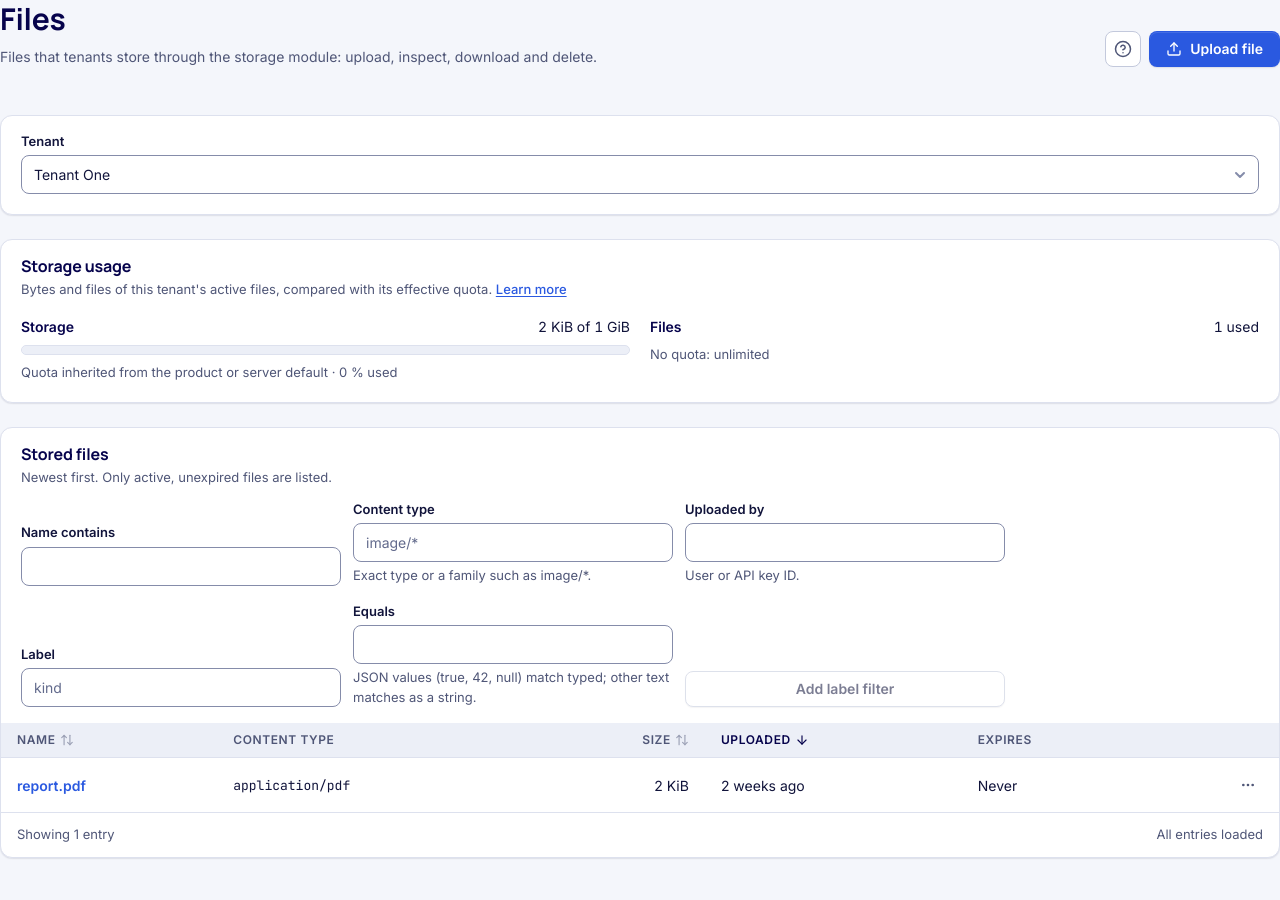
Test case: FilesPage › deletes a file after confirmation with If-Match
Click the button named "Actions for report.pdf" at [1248, 785], box [1233, 770, 1263, 800]
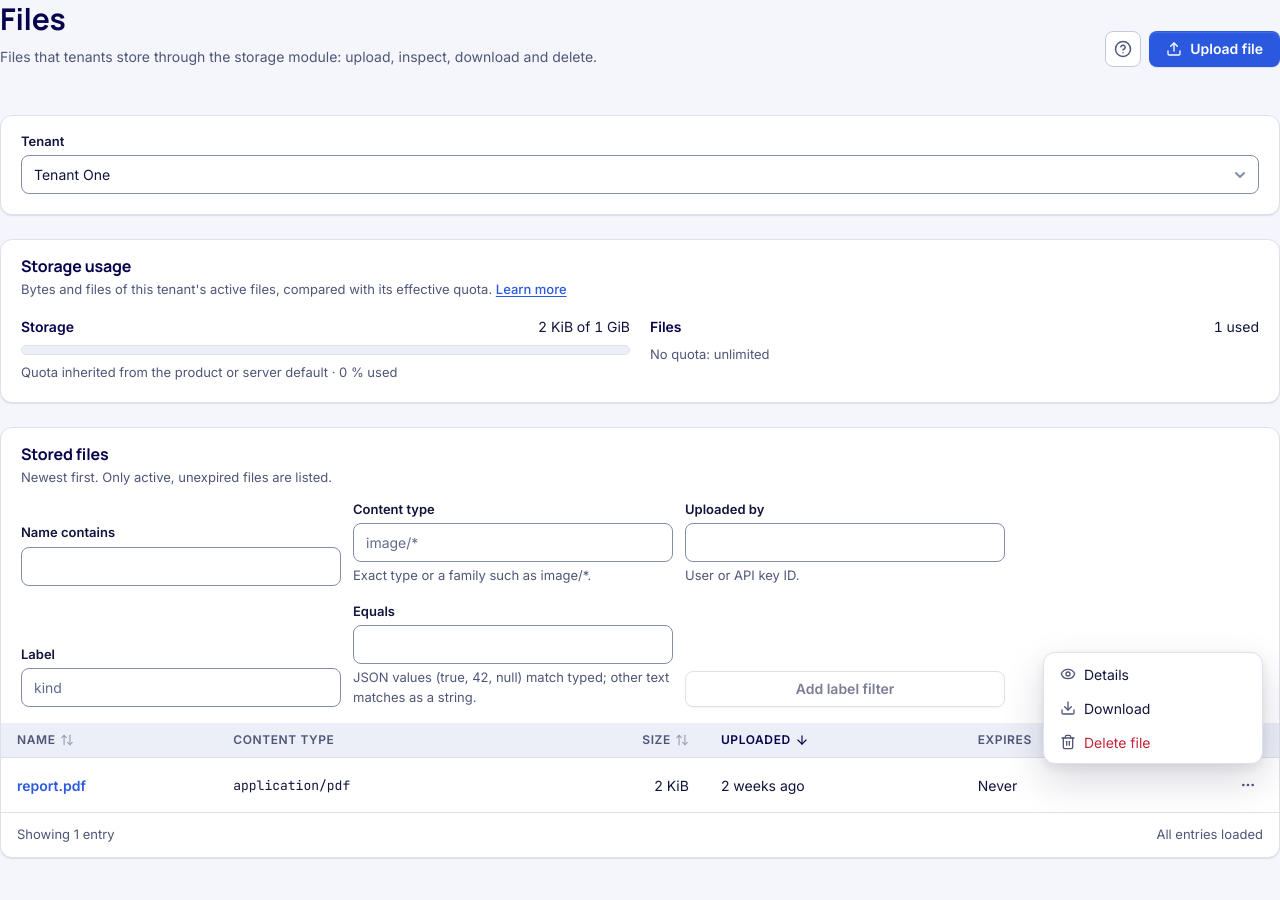
Click the menu item "Delete file" at [1105, 742], box [1060, 734, 1150, 750]
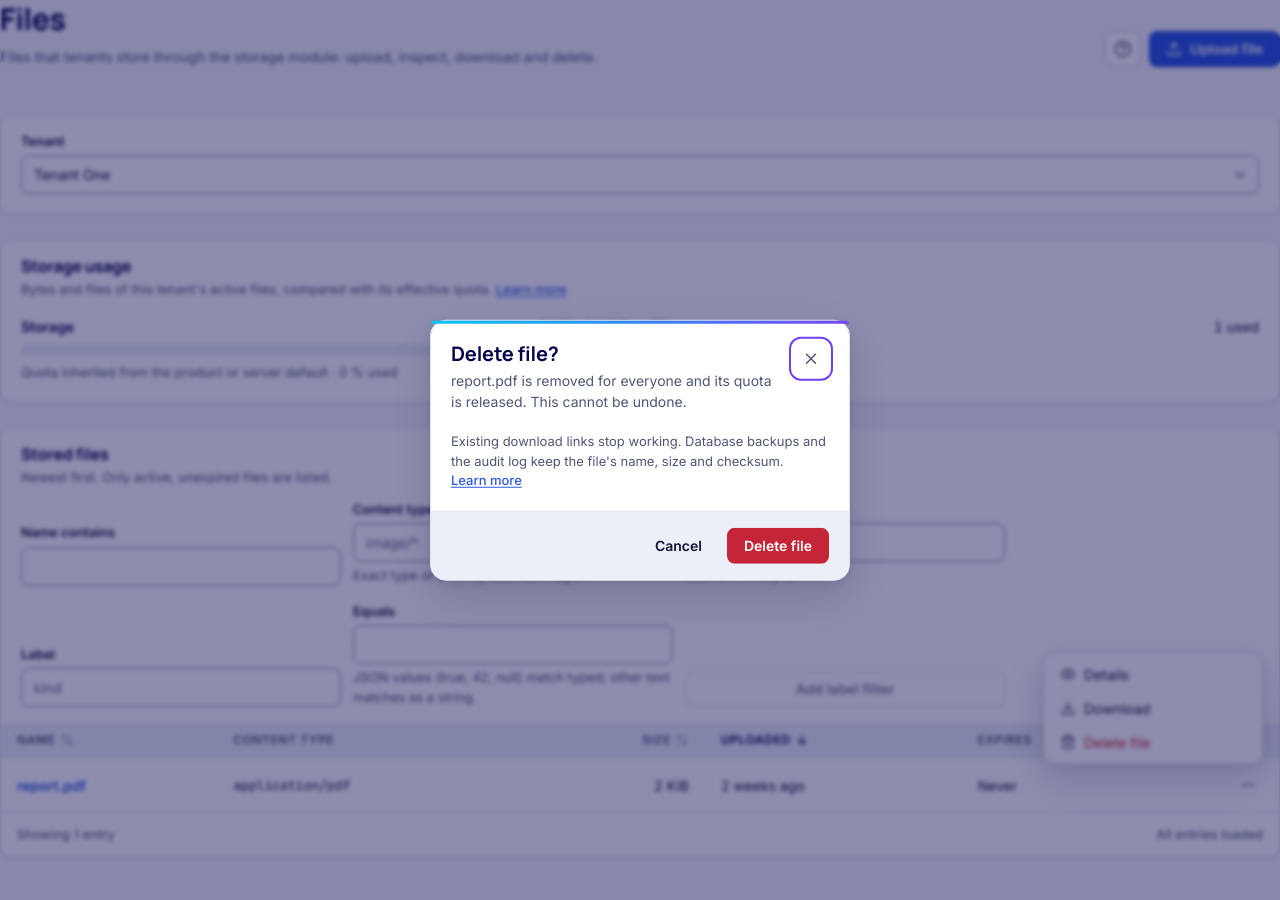
Result: the dialog "Delete file?" shows "report.pdf is removed for everyone" at [451, 372, 772, 410]
Click the button "Delete file" at [778, 545], box [727, 527, 829, 563]
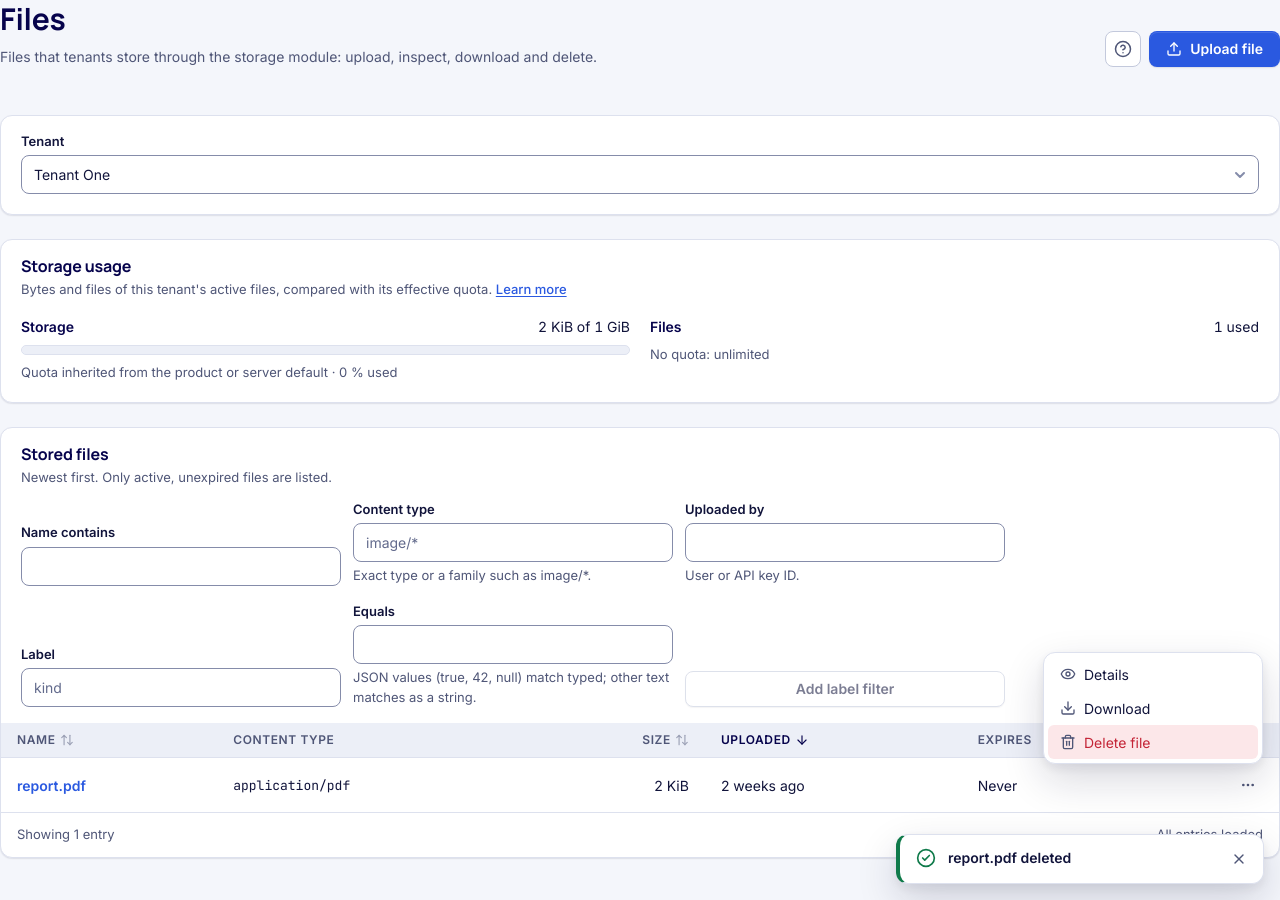
Result: the text "report.pdf deleted" is shown at [948, 849, 1071, 866]
